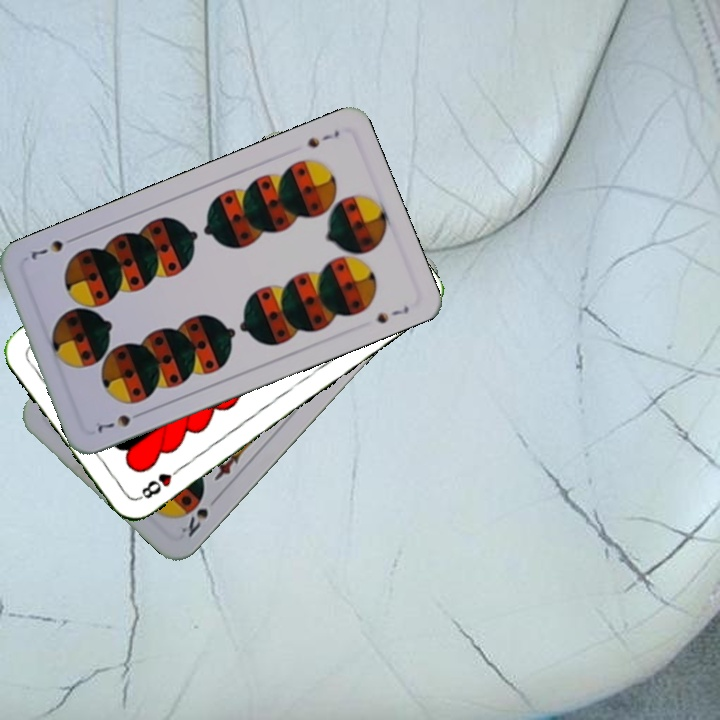H8: (134, 462, 186, 503)
S7: (93, 407, 147, 435), (303, 126, 342, 151)
SK: (174, 491, 222, 540)
